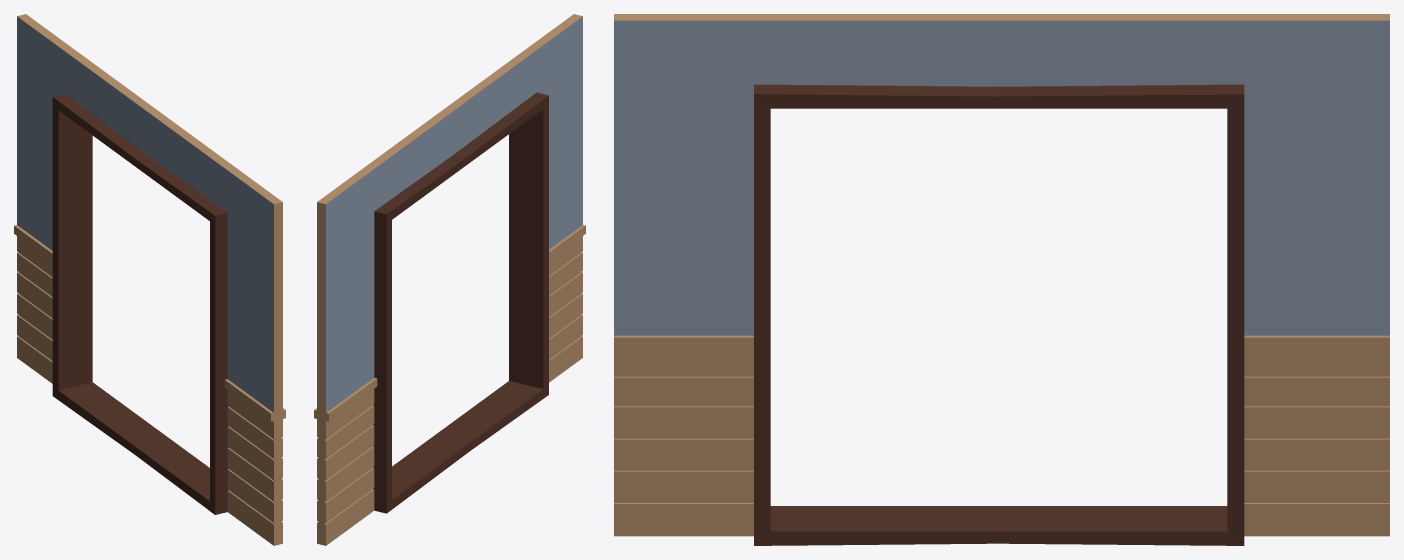
Rendered from int-door-b.glb.
The picture shows the model from 3 angles, left to right: view 1: azimuth 30°, elevation 25°; view 2: azimuth 150°, elevation 25°; view 3: azimuth 270°, elevation 25°; orthographic projection. The views are drawn at different scales.
Visible parts, largest first — view 1: Int. Door B (×3); view 2: Int. Door B (×3); view 3: Int. Door B (×3).
Part boxes in pixels (box(x1,y1,x2,y2)): Int. Door B (×3): box(14, 14, 285, 545); Int. Door B (×3): box(314, 14, 585, 545); Int. Door B (×3): box(614, 14, 1389, 545).
Bounding box in the file's own units: 0.2339 × 2.2 × 3.
